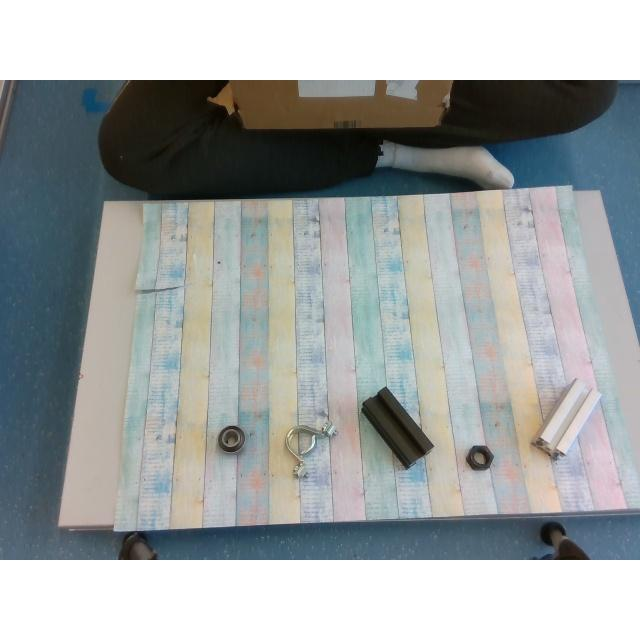Bearing2: (217, 424, 245, 452)
Housing: (286, 420, 338, 480)
M20: (466, 446, 494, 470)
S40_40_B: (361, 388, 433, 468)
S40_40_G: (532, 378, 600, 458)
